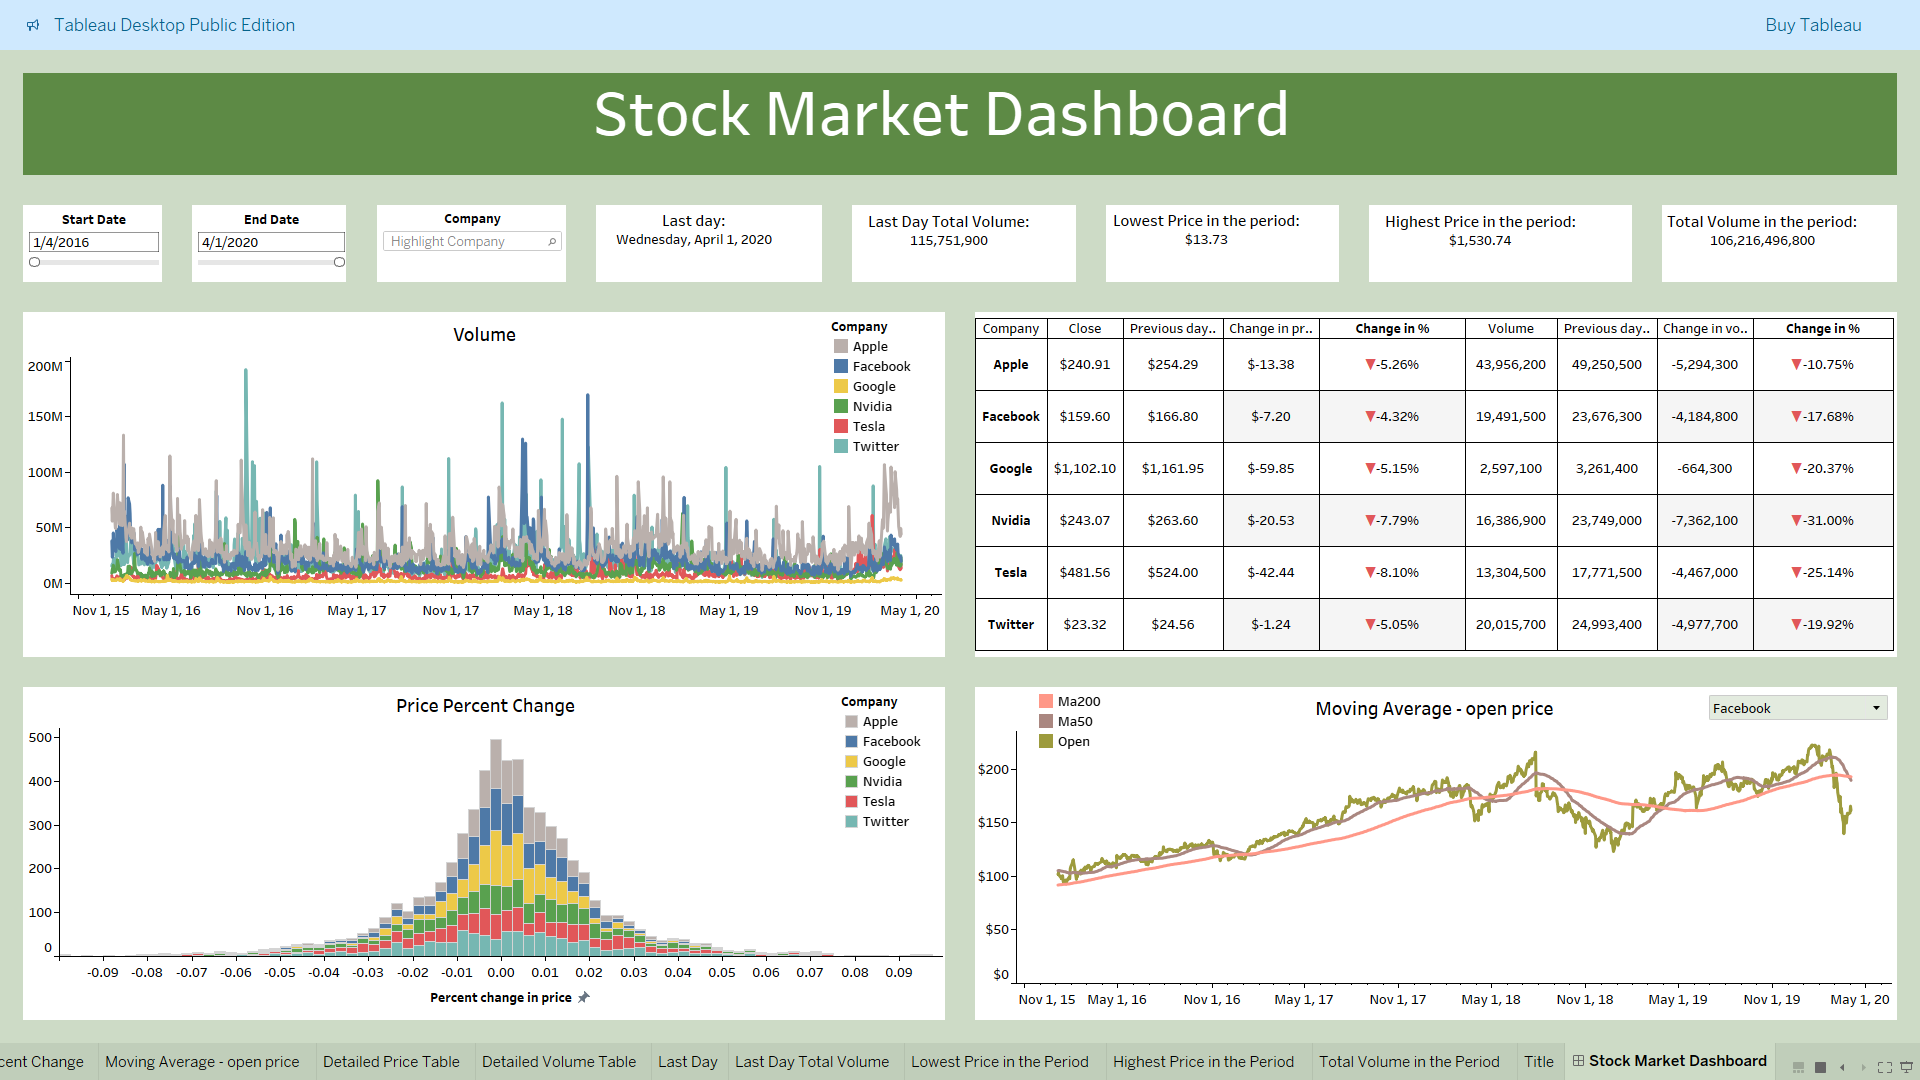

What the dashboard file says about the page in this screenshot:
{"tool":"tableau","page":{"name":"Stock Market Dashboard","canvas":[1000,1000],"units":"permille","ordinal":0},"visuals":[{"type":"blank","box":[4.8,10,990.3,132.1]},{"type":"worksheet","title":"Title","mark":"Automatic","box":[292.7,23.7,433.9,102.4]},{"type":"image","param":"C:/Users/User/Downloads/Facebook logo.png","box":[838.3,28.7,77.2,92.4]},{"type":"image","param":"C:/Users/User/Downloads/Apple logo.png","box":[945.1,30,47.7,91.1]},{"type":"image","param":"C:/Users/User/Downloads/Twitter logo.png","box":[15.7,31.2,77.2,87.4]},{"type":"image","param":"C:/Users/User/Downloads/Nvidia logo.png","box":[233,31.2,62.2,87.4]},{"type":"image","param":"C:/Users/User/Downloads/Google logo.png","box":[721.8,31.2,48.3,89.9]},{"type":"image","param":"C:/Users/User/Downloads/Tesla logo.png","box":[129.8,32.5,40.4,88.6]},{"type":"blank","box":[4.8,142.1,88,107.4]},{"type":"blank","box":[92.9,142.1,95.9,107.4]},{"type":"blank","box":[188.7,142.1,113.8,107.4]},{"type":"blank","box":[302.6,142.1,133.1,107.4]},{"type":"blank","box":[435.7,142.1,132.5,107.4]},{"type":"blank","box":[568.2,142.1,137.8,107.4]},{"type":"blank","box":[706,142.1,151.1,107.4]},{"type":"blank","box":[857.1,142.1,138,107.4]},{"type":"highlighter","title":"Volume","param":"[federated.1bot2ws0xhzpk51c1j27y1i9b5bh].[none:Table Name:nk]","box":[197.8,159.8,96.5,77.4]},{"type":"parameter","param":"[Parameters].[Parameter 1]","box":[13.8,161.1,70.7,91.1]},{"type":"parameter","param":"[Parameters].[Parameter 2]","box":[101.3,161.1,79.7,99.9]},{"type":"worksheet","title":"Last Day","mark":"Automatic","box":[311.8,161.1,115.7,82.4]},{"type":"worksheet","title":"Last Day Total Volume","mark":"Automatic","box":[444.8,161.1,115.3,83.7]},{"type":"worksheet","title":"Lowest Price in the Period","mark":"Automatic","box":[577.6,161.1,120.7,69.9]},{"type":"worksheet","title":"Highest Price in the Period","mark":"Automatic","box":[714,162.3,133.1,68.7]},{"type":"worksheet","title":"Total Volume in the Period","mark":"Automatic","box":[866,162.3,121.9,63.7]},{"type":"blank","box":[4.8,249.5,494.9,375.7]},{"type":"blank","box":[499.8,249.5,495.4,375.7]},{"type":"worksheet","title":"Volume","mark":"Automatic","rows":["Volume"],"cols":["Date"],"box":[13.8,268.4,476.5,317.1]},{"type":"legend","title":"Volume","param":"[federated.1bot2ws0xhzpk51c1j27y1i9b5bh].[none:Table Name:nk]","box":[432.6,268.4,57.2,182.3]},{"type":"worksheet","title":"Detailed Price Table","mark":"Automatic","rows":["Table Name","Close","Previous day close price","Change in price"],"box":[507.8,269.7,256,335.8]},{"type":"worksheet","title":"Detailed Volume Table","mark":"Automatic","rows":["Table Name","Volume","Previous day volume","Change in volume"],"box":[763.2,269.7,223.6,335.8]},{"type":"blank","box":[4.8,625.3,494.9,364.7]},{"type":"blank","box":[499.8,625.3,495.4,364.7]},{"type":"worksheet","title":"Price Percent Change","mark":"Automatic","rows":["Percent change in price"],"cols":["Percent change in price (bin)"],"box":[14.4,643,476.6,327.1]},{"type":"worksheet","title":"Moving Average - open price","mark":"Automatic","cols":["Date"],"box":[509,645.4,476.6,324.6]},{"type":"legend","title":"Moving Average - open price","param":"[federated.1bot2ws0xhzpk51c1j27y1i9b5bh].[:Measure Names]","box":[539.6,645.4,48,74.9]},{"type":"legend","title":"Price Percent Change","param":"[federated.1bot2ws0xhzpk51c1j27y1i9b5bh].[none:Table Name:nk]","box":[438.2,646.7,51,173.5]},{"type":"filter","title":"Moving Average - open price","param":"[federated.1bot2ws0xhzpk51c1j27y1i9b5bh].[none:Table Name:nk]","box":[888.5,646.7,96.5,36.2]}]}

Visuals, with their boxes on the dashboard's canvas, which has no fixed pixel size, in thousandths of its width and height (x1, y1, x2, y2). These are canvas units, not pixel positions in the 1920x1080 screenshot, which may show the page scaled, cropped or inside an application window:
blank: 5:10:995:142
"Title" worksheet: 293:24:727:126
image: 838:29:916:121
image: 945:30:993:121
image: 16:31:93:119
image: 233:31:295:119
image: 722:31:770:121
image: 130:32:170:121
blank: 5:142:93:250
blank: 93:142:189:250
blank: 189:142:302:250
blank: 303:142:436:250
blank: 436:142:568:250
blank: 568:142:706:250
blank: 706:142:857:250
blank: 857:142:995:250
"Volume" highlighter: 198:160:294:237
parameter: 14:161:84:252
parameter: 101:161:181:261
"Last Day" worksheet: 312:161:428:244
"Last Day Total Volume" worksheet: 445:161:560:245
"Lowest Price in the Period" worksheet: 578:161:698:231
"Highest Price in the Period" worksheet: 714:162:847:231
"Total Volume in the Period" worksheet: 866:162:988:226
blank: 5:250:500:625
blank: 500:250:995:625
"Volume" worksheet: 14:268:490:586
"Volume" legend: 433:268:490:451
"Detailed Price Table" worksheet: 508:270:764:606
"Detailed Volume Table" worksheet: 763:270:987:606
blank: 5:625:500:990
blank: 500:625:995:990
"Price Percent Change" worksheet: 14:643:491:970
"Moving Average - open price" worksheet: 509:645:986:970
"Moving Average - open price" legend: 540:645:588:720
"Price Percent Change" legend: 438:647:489:820
"Moving Average - open price" filter: 888:647:985:683
